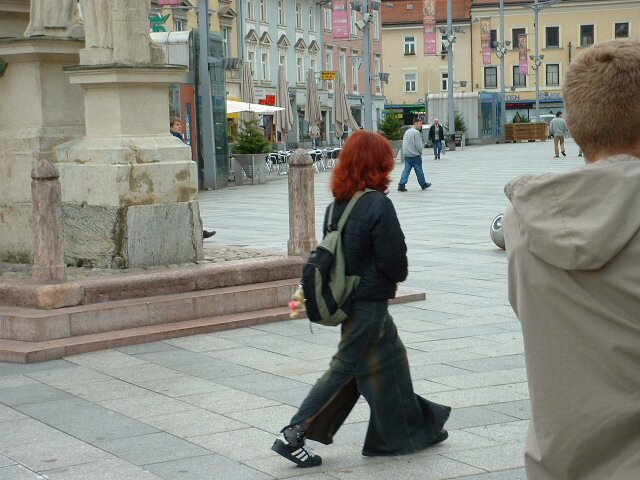person: (268, 121, 455, 462), (507, 36, 640, 467), (398, 114, 442, 191)
